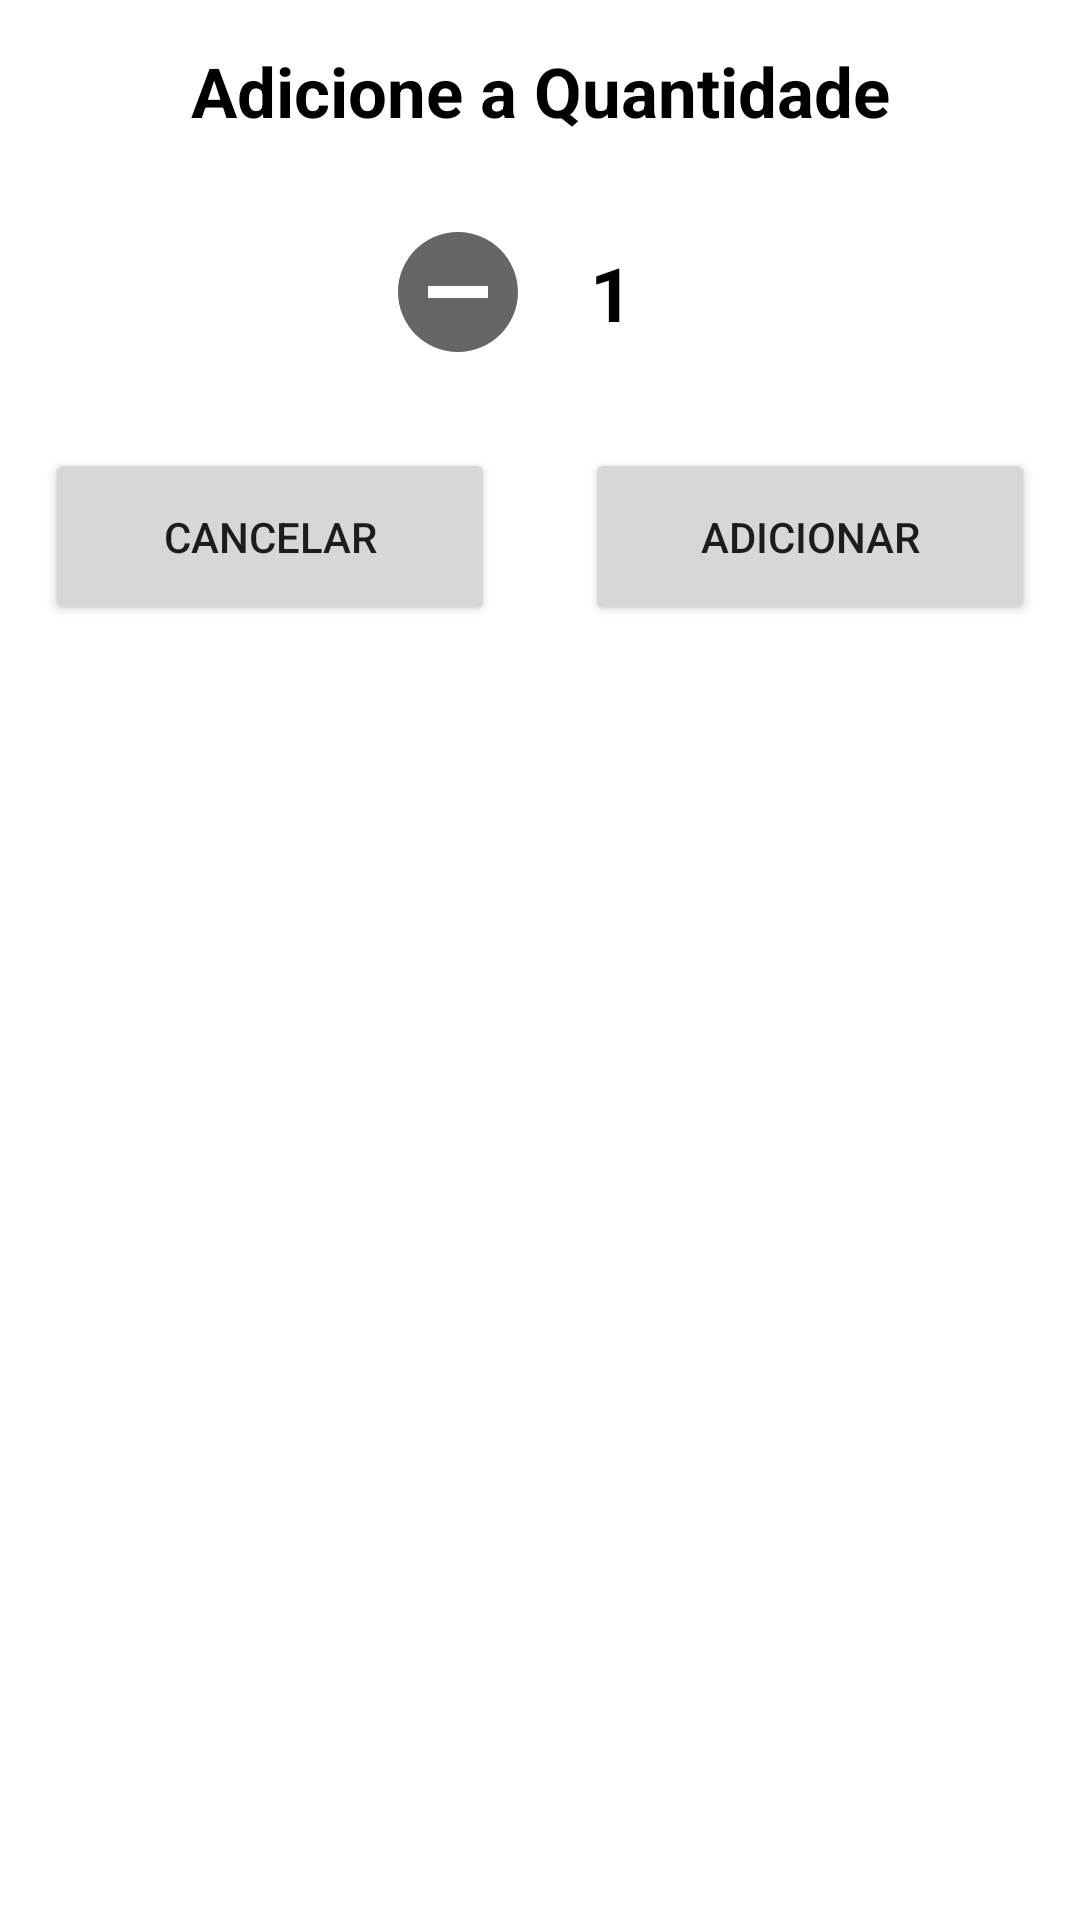

Locate icon controls on the screen. Image size 1080*1920, boxes as (x1, y1, x2, y2).
remove circle: (398, 232, 518, 352)
